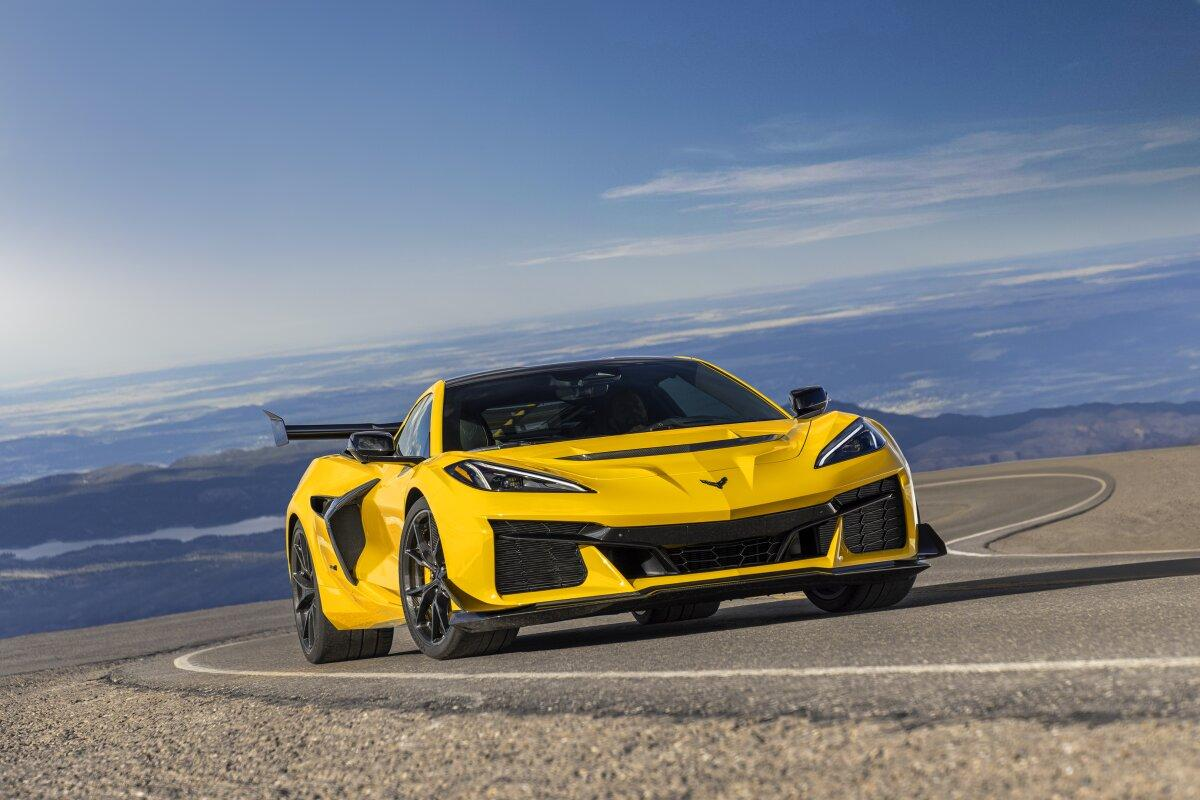car: (255, 350, 966, 677)
